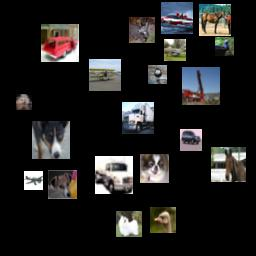airplane: (89, 59, 121, 91), (164, 39, 186, 61), (24, 171, 43, 190)
automobile: (41, 24, 79, 62), (180, 129, 202, 151)
bird: (150, 207, 176, 233), (215, 37, 234, 56), (148, 65, 167, 84)
deer: (129, 17, 155, 43)
dog: (32, 121, 70, 159), (48, 170, 77, 199), (140, 154, 169, 183), (116, 211, 142, 237), (16, 94, 32, 110)
ship: (161, 2, 193, 34)
truck: (95, 156, 133, 194), (182, 67, 220, 105), (122, 102, 154, 134)
